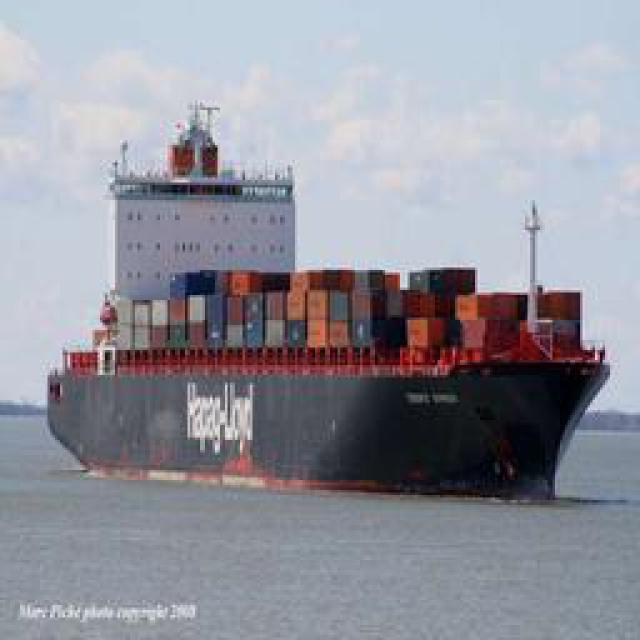Ship: (37, 149, 615, 499)
